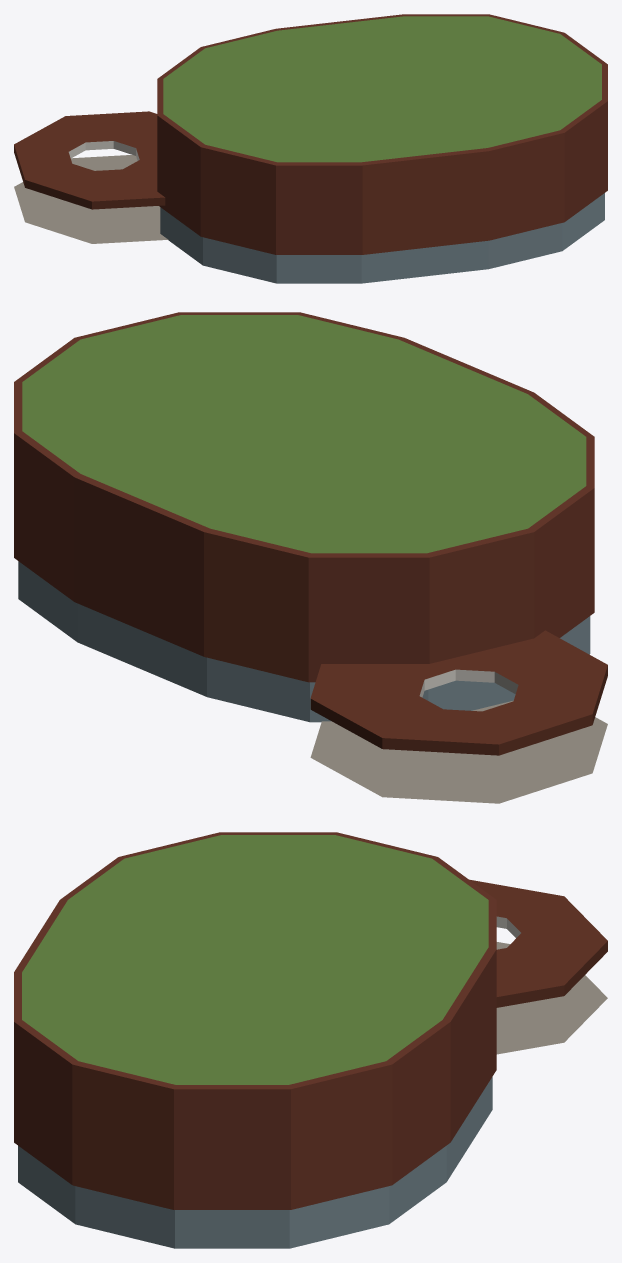
The picture shows the model from 3 angles, top to bottom: view 1: azimuth 30°, elevation 25°; view 2: azimuth 150°, elevation 25°; view 3: azimuth 270°, elevation 25°; orthographic projection. The views are drawn at different scales.
Parts seen in each view (by area): view 1: brooklyn-arena-lod2; view 2: brooklyn-arena-lod2; view 3: brooklyn-arena-lod2.
Boxes of the visible parts, x1,y1,x2,y2 form: brooklyn-arena-lod2: (14, 14, 607, 283); brooklyn-arena-lod2: (14, 312, 607, 803); brooklyn-arena-lod2: (14, 832, 607, 1248).
Bounding box in the file's own units: 241 × 57.9 × 192.
